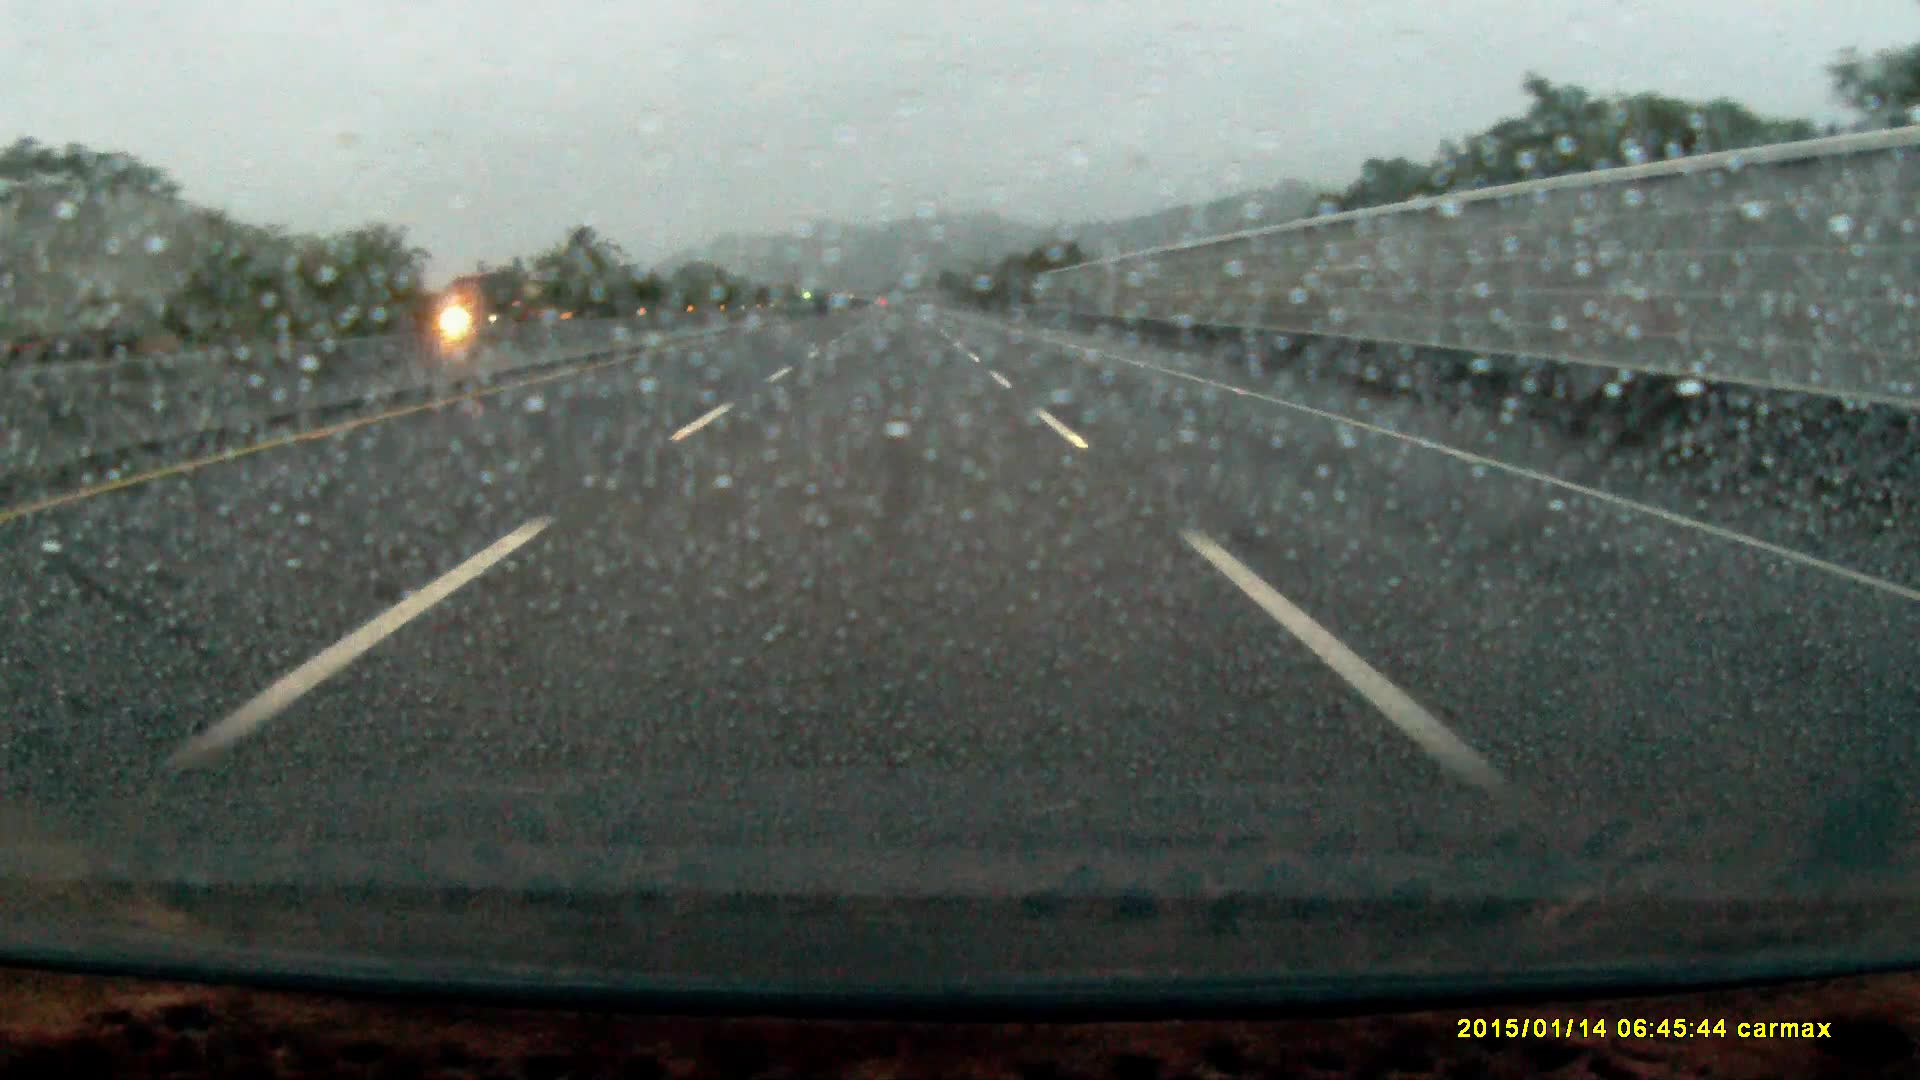vehicle: (3, 187, 208, 364), (450, 277, 545, 324)
